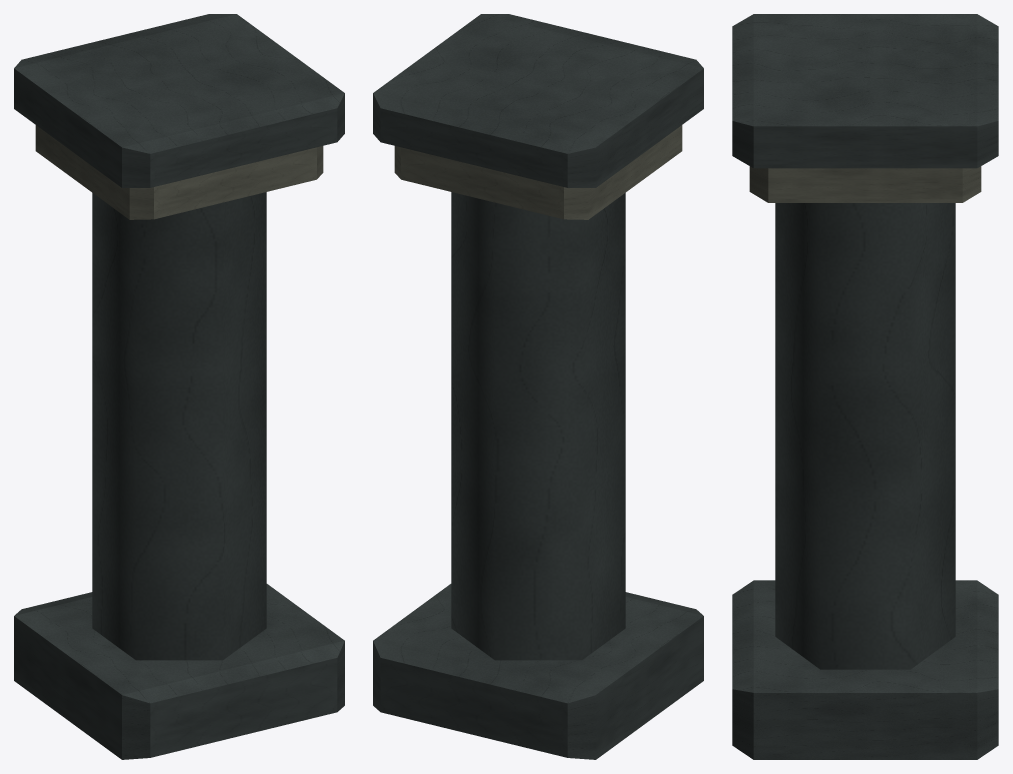
The model's file is pillar-low.glb.
3 renders of one model, left to right at view 1: azimuth 30°, elevation 25°; view 2: azimuth 150°, elevation 25°; view 3: azimuth 270°, elevation 25°, orthographic. The views are drawn at different scales.
Parts seen in each view (by area): view 1: pillar-shaft, pillar-crown, pillar-plinth, pillar-capital; view 2: pillar-shaft, pillar-crown, pillar-plinth, pillar-capital; view 3: pillar-shaft, pillar-crown, pillar-plinth, pillar-capital.
Part boxes in pixels (left/top/right/bottom): pillar-shaft: left=92, top=192, right=266, bottom=660; pillar-crown: left=14, top=14, right=344, bottom=187; pillar-plinth: left=14, top=584, right=344, bottom=759; pillar-capital: left=35, top=125, right=323, bottom=219; pillar-shaft: left=451, top=192, right=625, bottom=660; pillar-crown: left=373, top=14, right=703, bottom=187; pillar-plinth: left=373, top=584, right=703, bottom=759; pillar-capital: left=394, top=125, right=682, bottom=219; pillar-shaft: left=775, top=203, right=955, bottom=669; pillar-crown: left=732, top=14, right=998, bottom=168; pillar-plinth: left=732, top=580, right=998, bottom=759; pillar-capital: left=749, top=166, right=981, bottom=202.
Size of the model in its own units: 1.15 by 3.02 by 1.15.
2 materials, 2 textured.
